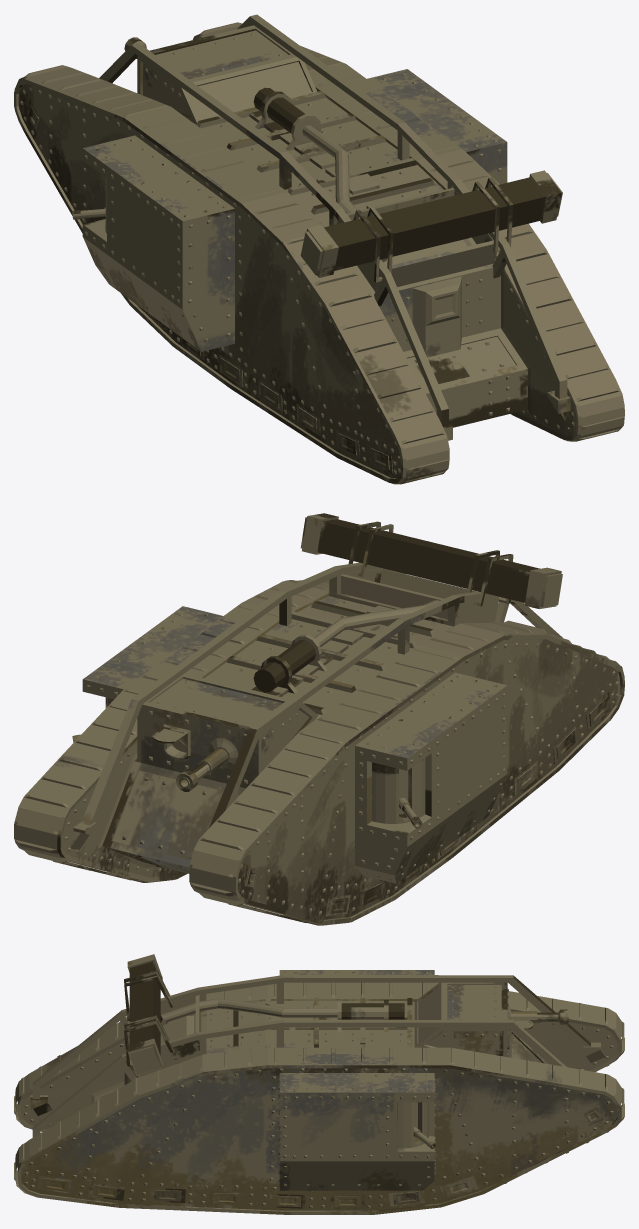
The model's file is MarkIV.fbx.
3 renders of one model, top to bottom at view 1: azimuth 30°, elevation 25°; view 2: azimuth 150°, elevation 25°; view 3: azimuth 270°, elevation 25°, orthographic. The views are drawn at different scales.
Visible parts, largest first — view 1: Tank; view 2: Tank; view 3: Tank.
Boxes of the visible parts, <box> form: Tank: <box>14,14,624,484</box>; Tank: <box>14,513,624,925</box>; Tank: <box>14,954,624,1214</box>.
Size of the model in its own units: 447 by 281 by 871.
1 material, 1 textured.
